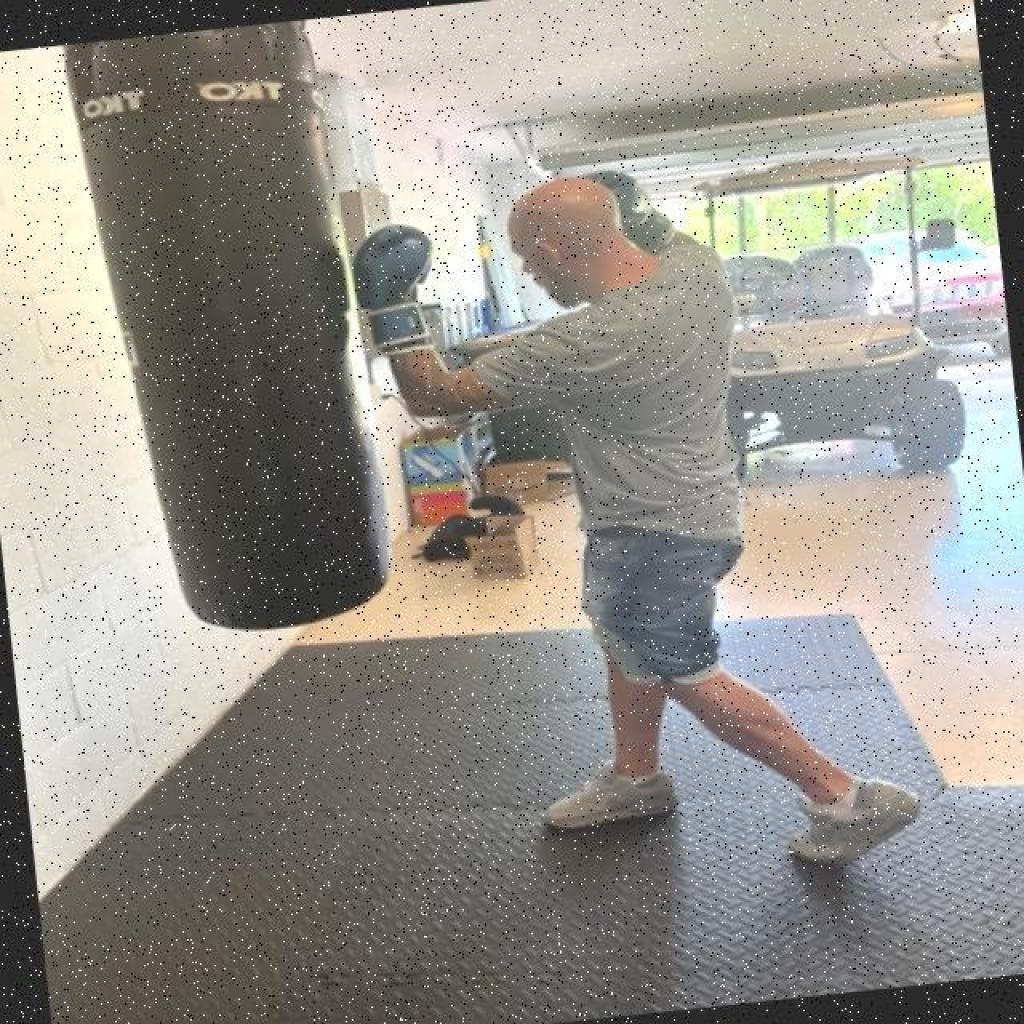uppercut: (325, 131, 757, 459)
